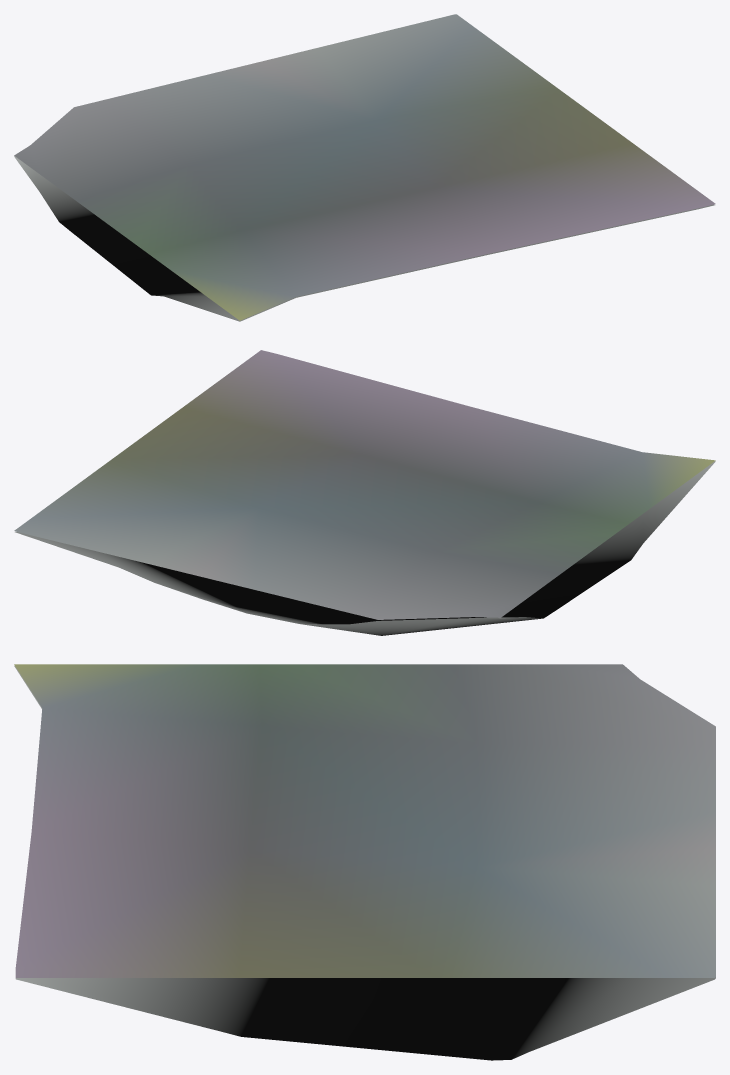
3 renders of one model, top to bottom at view 1: azimuth 30°, elevation 25°; view 2: azimuth 150°, elevation 25°; view 3: azimuth 270°, elevation 25°, orthographic. The views are drawn at different scales.
Parts seen in each view (by area): view 1: G:\FFXIV-MapTools\exports\r2f1\bg\ex1\01_roc_r2\fld\r2f1\bgp (×2); view 2: G:\FFXIV-MapTools\exports\r2f1\bg\ex1\01_roc_r2\fld\r2f1\bgp (×2); view 3: G:\FFXIV-MapTools\exports\r2f1\bg\ex1\01_roc_r2\fld\r2f1\bgp (×2).
Part boxes in pixels (x1,y1,x2,y2): G:\FFXIV-MapTools\exports\r2f1\bg\ex1\01_roc_r2\fld\r2f1\bgp (×2): (14,14,715,321); G:\FFXIV-MapTools\exports\r2f1\bg\ex1\01_roc_r2\fld\r2f1\bgp (×2): (14,350,715,635); G:\FFXIV-MapTools\exports\r2f1\bg\ex1\01_roc_r2\fld\r2f1\bgp (×2): (14,664,715,1060).
Size of the model in its own units: 128 by 18.81 by 121.
